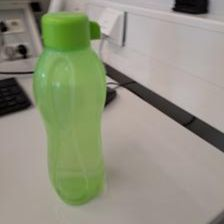bottle: (29, 8, 111, 204)
